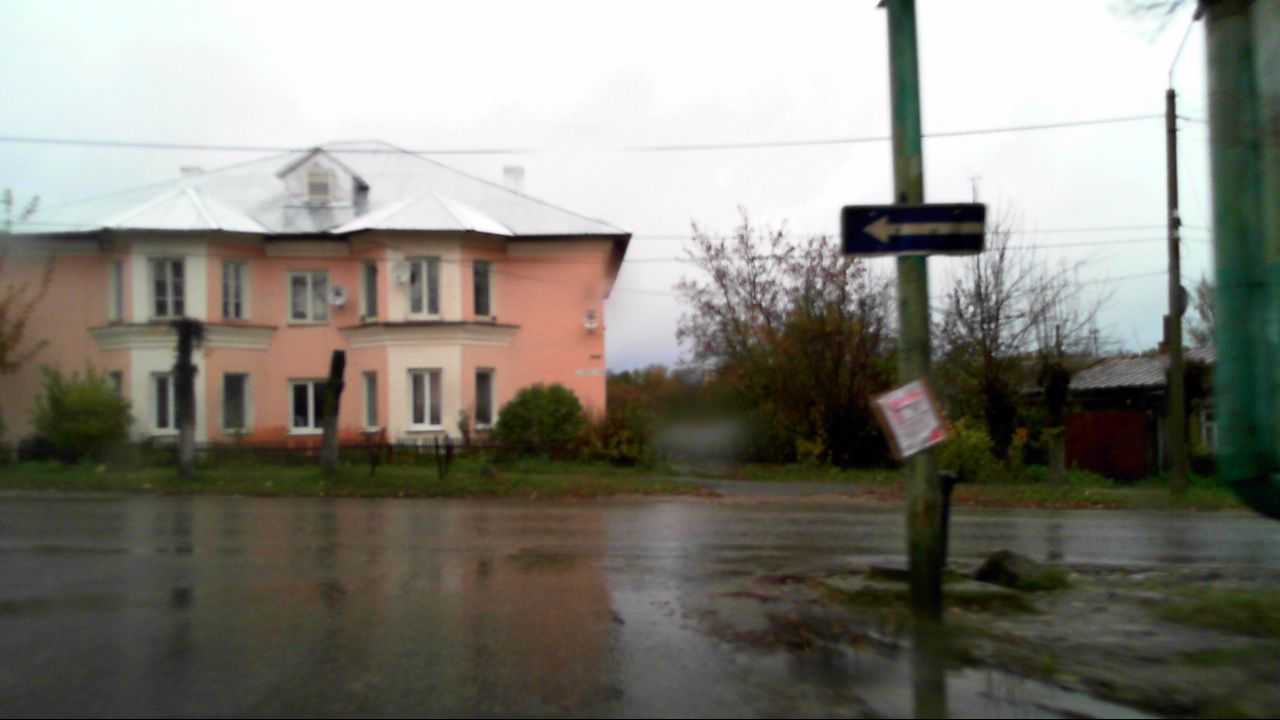One-Way Traffic: (840, 202, 986, 253)
